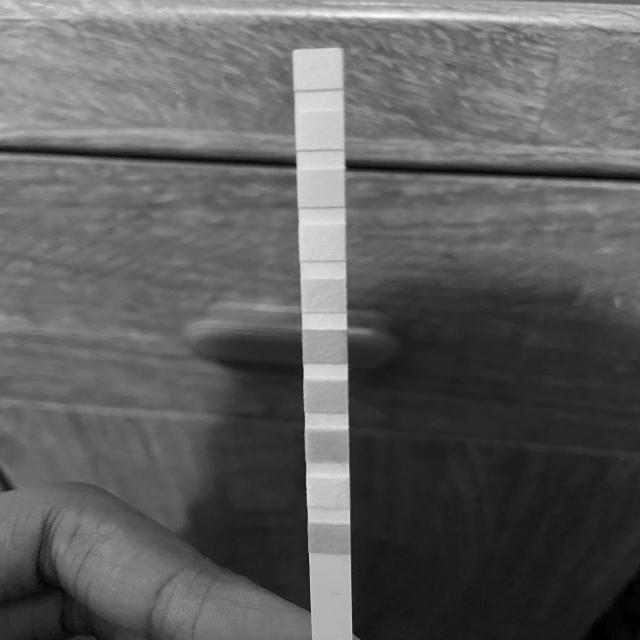Bilirubin: (307, 476, 350, 508)
Blood: (303, 329, 348, 364)
Glucose: (309, 523, 350, 553)
Ketone: (306, 428, 348, 461)
Leukocytes: (294, 50, 342, 89)
Nitrite: (297, 112, 343, 150)
Protein: (300, 224, 345, 260)
SpGravity: (305, 379, 348, 412)
Urobilinogen: (297, 169, 344, 207)
background: (0, 0, 640, 640)
pH: (302, 279, 346, 311)
strip: (294, 49, 351, 610)
